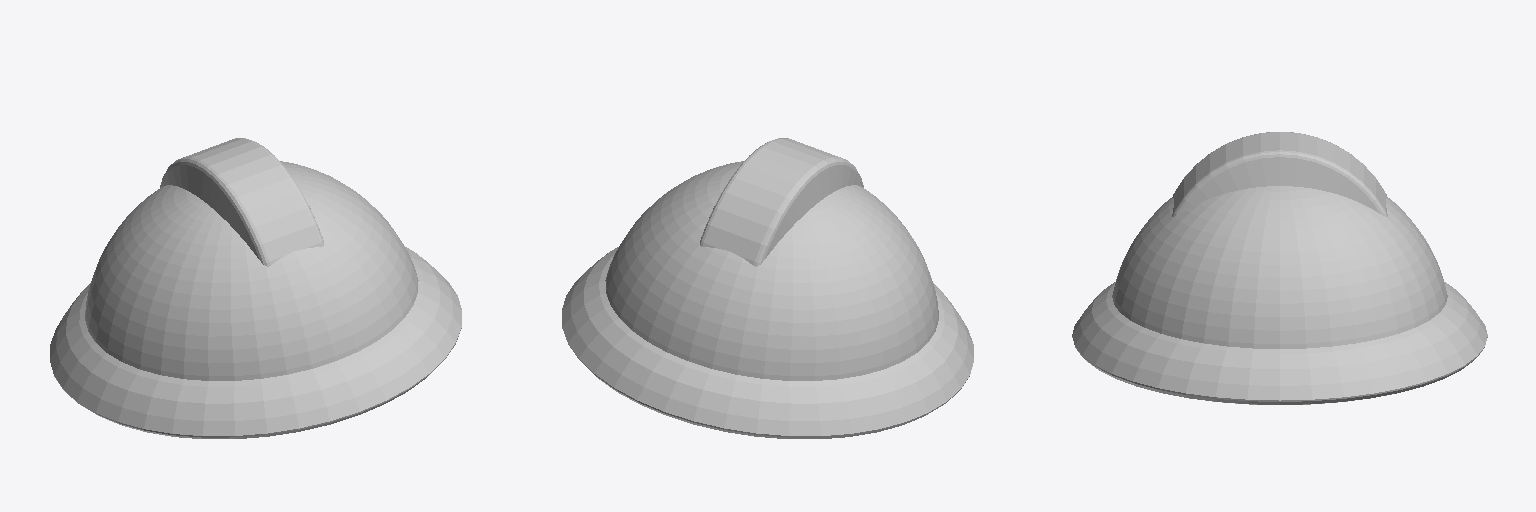
Rendered from Helmet.obj.
The picture shows the model from 3 angles: view 1: azimuth 30°, elevation 25°; view 2: azimuth 150°, elevation 25°; view 3: azimuth 270°, elevation 25°; orthographic projection.
Visible parts, largest first — view 1: Cap_out_seperate; view 2: Cap_out_seperate; view 3: Cap_out_seperate.
Part boxes in pixels (x1,y1,x2,y2): Cap_out_seperate: (50,138,461,438); Cap_out_seperate: (562,138,973,438); Cap_out_seperate: (1072,132,1487,404).
Size of the model in its own units: 46.96 by 27.1 by 47.3.